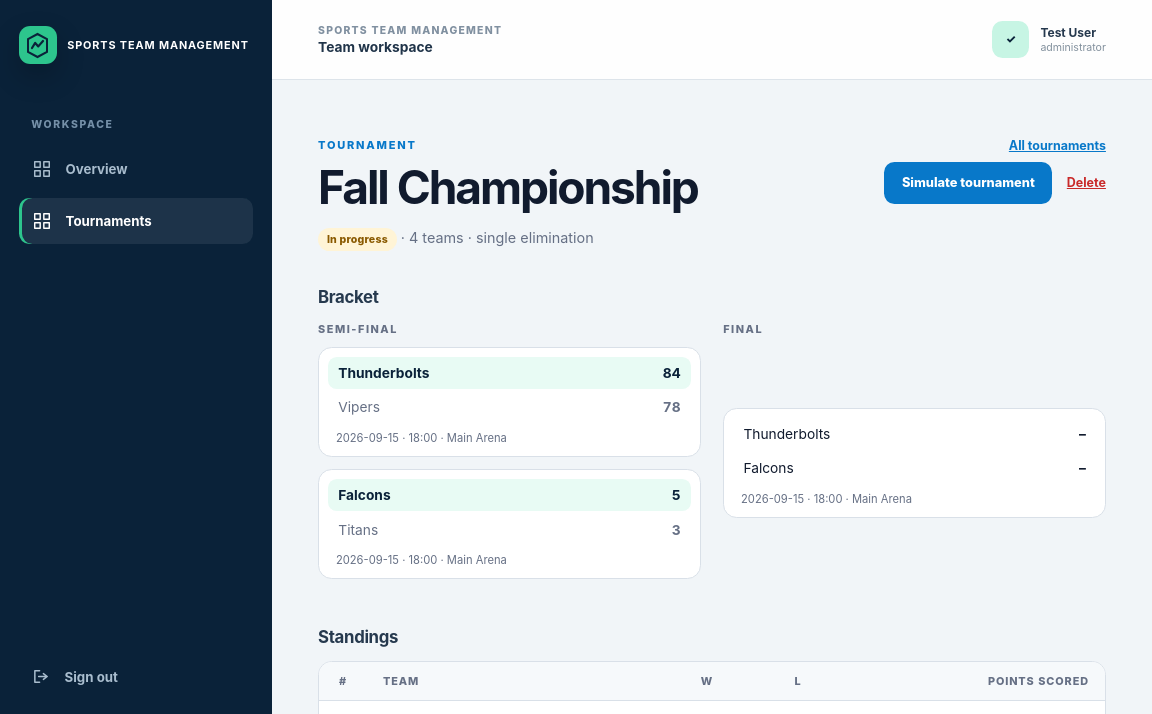
it: tournaments › asks for confirmation before deleting, then returns to the list
Step 1. Click the button "Delete" → (1086, 183), box x1=1067 y1=176 x2=1106 y2=190
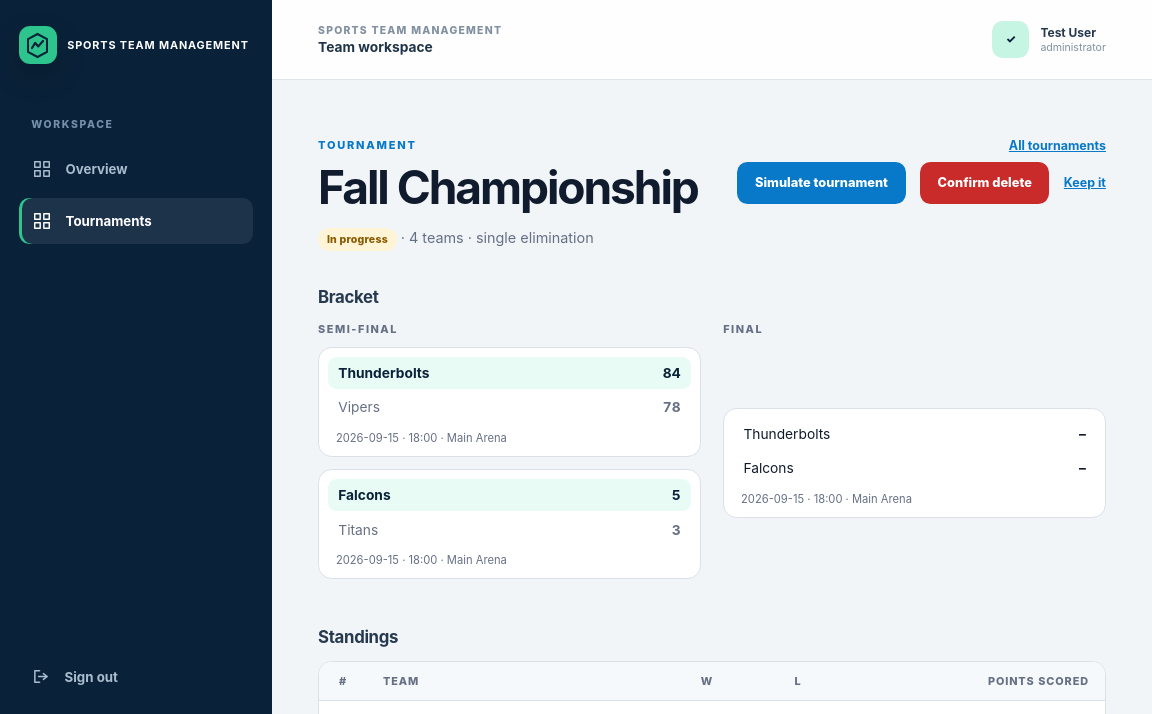
Step 2. Click the button "Confirm delete" → (985, 183), box x1=920 y1=162 x2=1050 y2=204
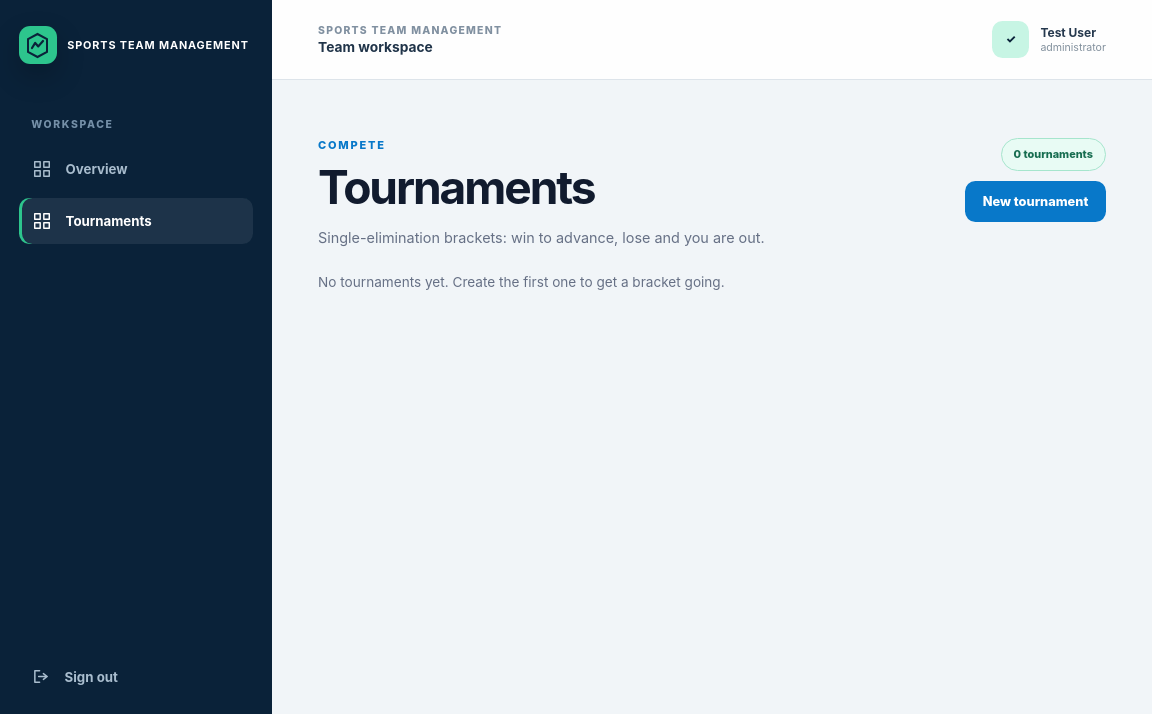
Expected: the text "No tournaments yet" is shown, x1=318 y1=274 x2=449 y2=290
